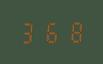eight: (63, 19, 84, 43)
six: (41, 20, 62, 43)
three: (18, 20, 39, 44)
